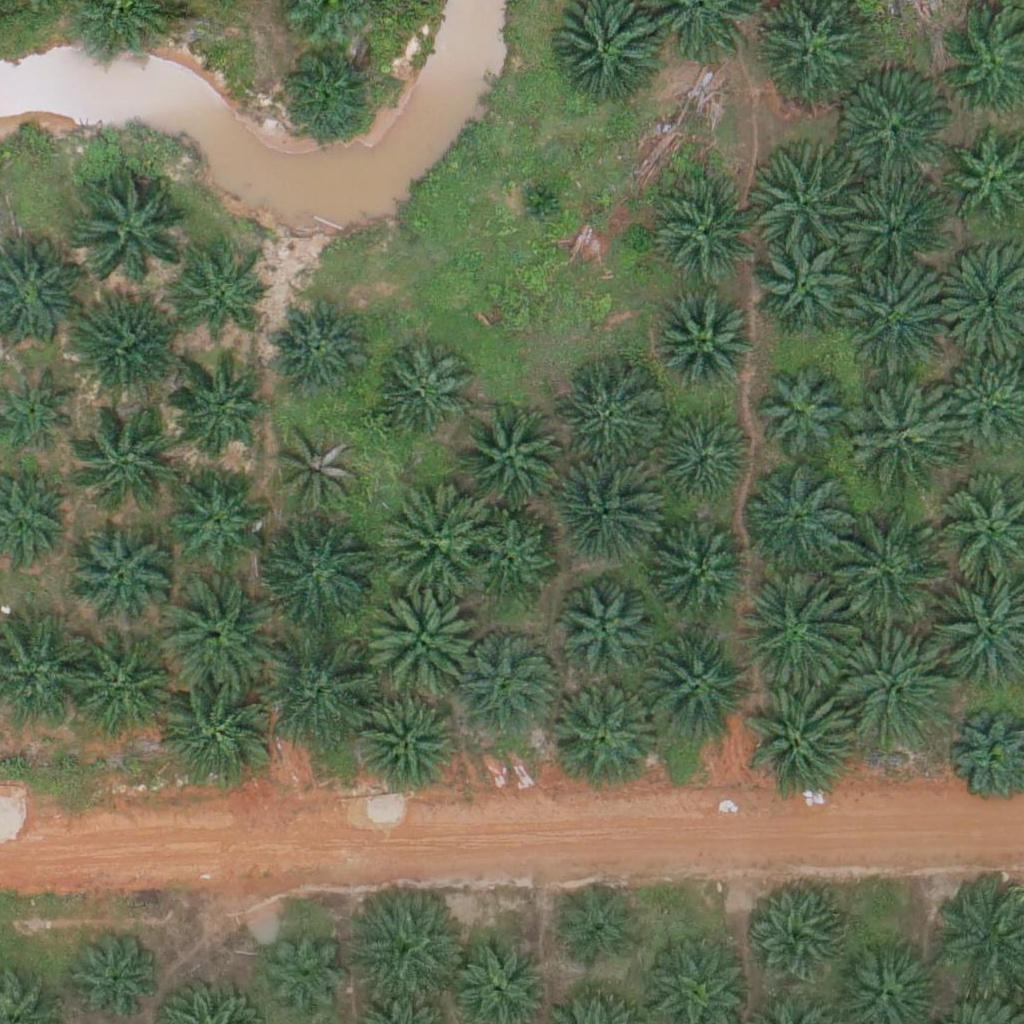Kelapa_Sawit: (843, 260, 956, 374), (837, 637, 950, 751), (734, 577, 847, 691), (550, 678, 663, 792), (637, 630, 750, 744), (848, 378, 961, 491), (549, 457, 662, 570), (161, 678, 274, 791), (74, 168, 187, 281), (349, 885, 461, 999), (741, 461, 853, 575), (73, 399, 185, 513), (841, 82, 953, 195), (830, 511, 942, 624), (746, 688, 858, 801), (752, 138, 864, 251), (454, 401, 566, 514), (377, 484, 489, 597), (364, 582, 476, 695), (266, 637, 378, 750), (262, 516, 374, 629), (160, 578, 272, 691), (61, 635, 173, 748), (64, 296, 176, 409), (753, 366, 853, 467), (754, 236, 854, 337), (555, 587, 655, 688), (456, 631, 556, 732), (370, 342, 470, 443), (166, 362, 266, 463), (68, 524, 168, 625), (745, 886, 845, 986), (844, 179, 944, 279), (655, 187, 755, 287), (656, 296, 756, 396), (656, 412, 756, 512), (652, 528, 752, 628), (558, 372, 658, 472), (355, 694, 455, 794), (276, 44, 376, 144), (267, 297, 367, 397), (166, 466, 266, 566), (554, 882, 642, 970), (466, 515, 554, 603), (266, 930, 353, 1018), (276, 428, 363, 516), (178, 258, 265, 346), (513, 174, 563, 225)
